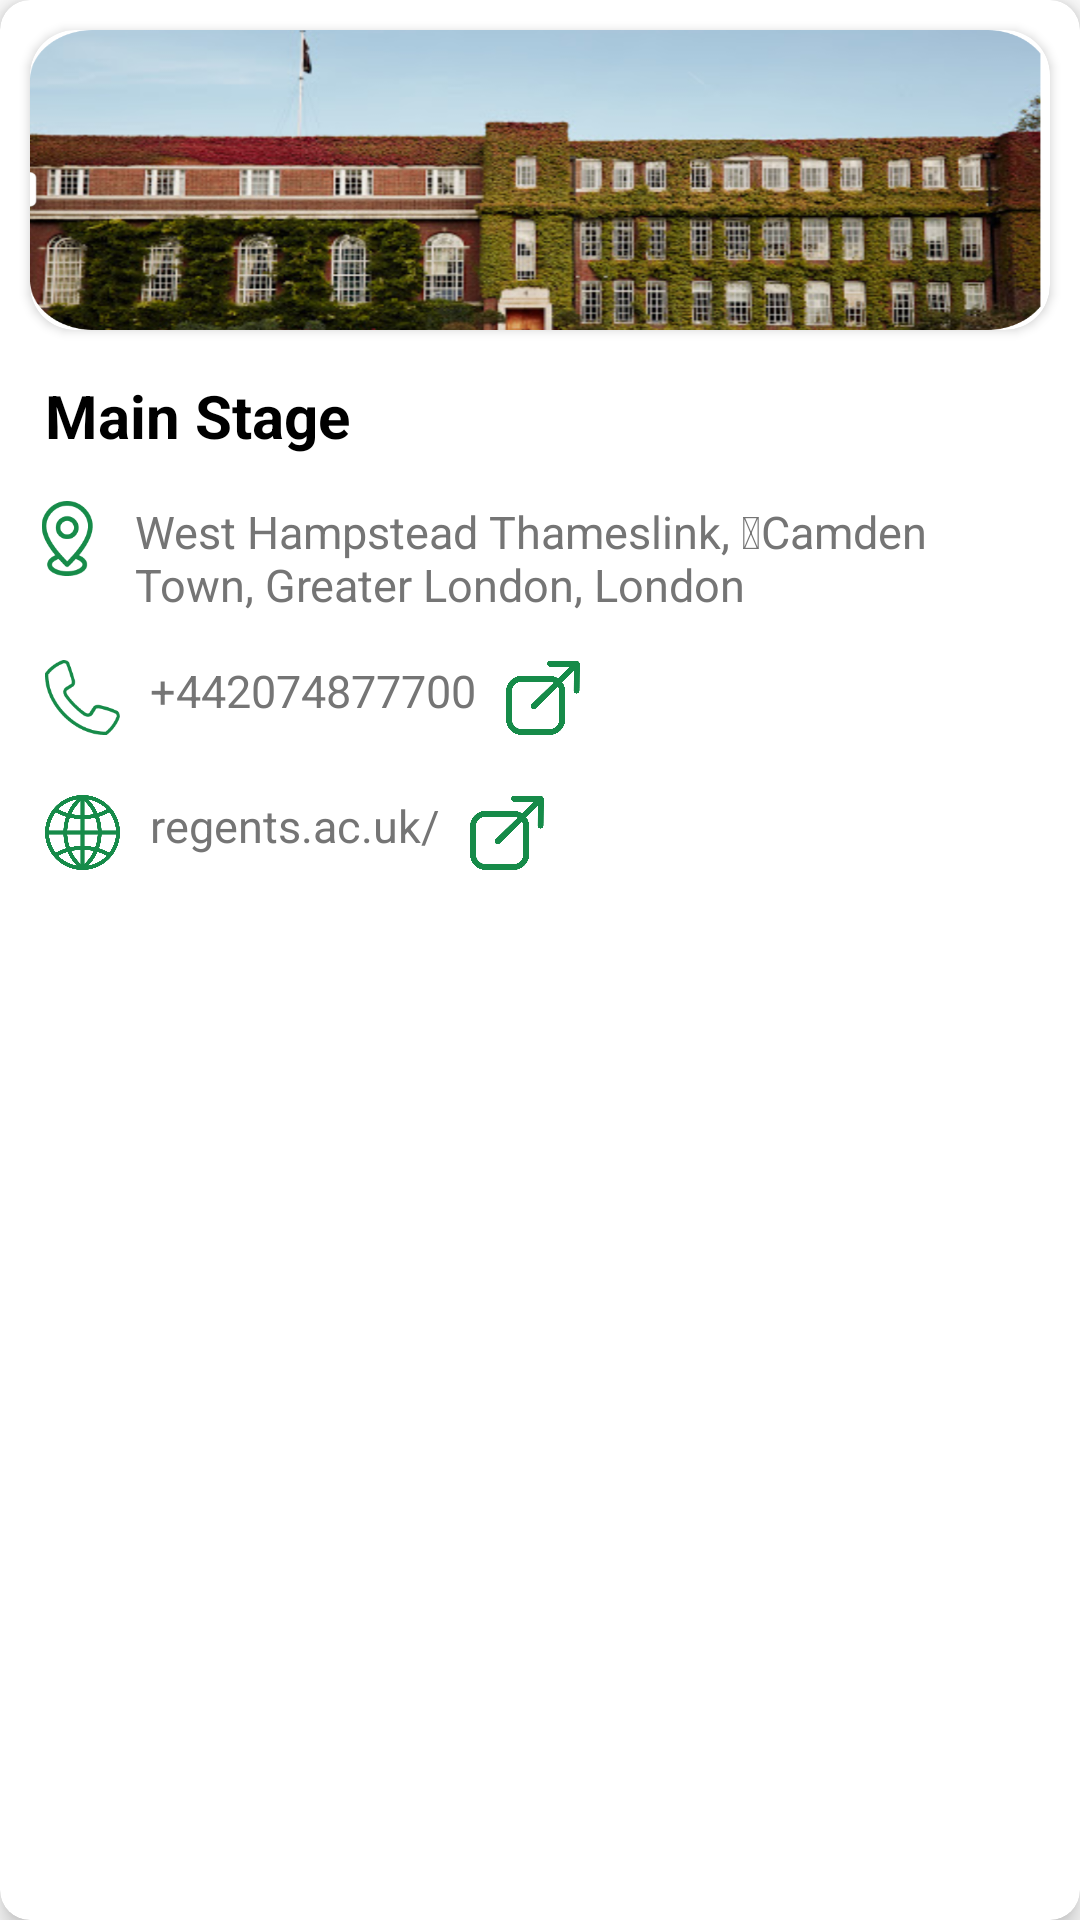

Locate icon controls on the screen. Image size 1080 × 1920, boxes as (x1, y1, x2, y2).
call: (45, 660, 120, 735)
location: (42, 501, 93, 576)
visit: (506, 661, 580, 735), (470, 796, 544, 870)
world: (45, 795, 120, 870)
